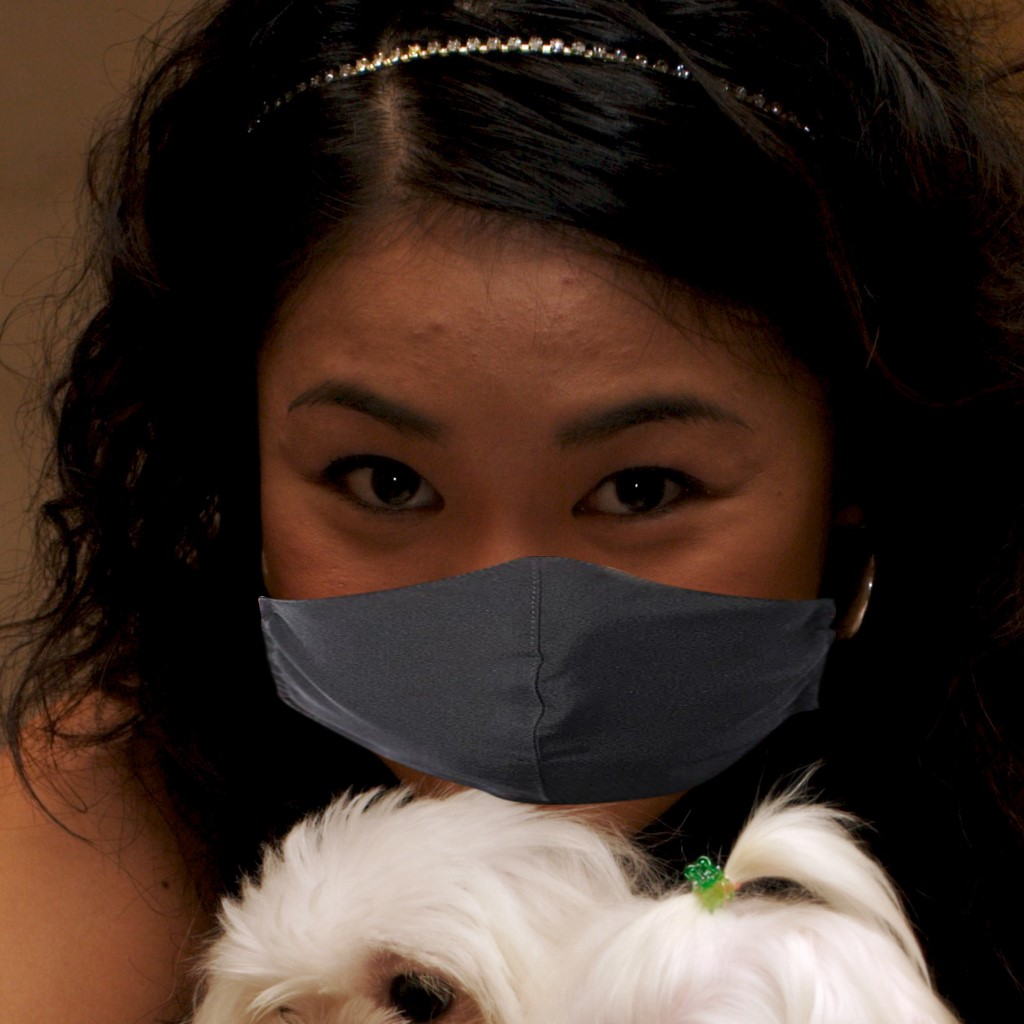con_mascara: (237, 142, 851, 852)
